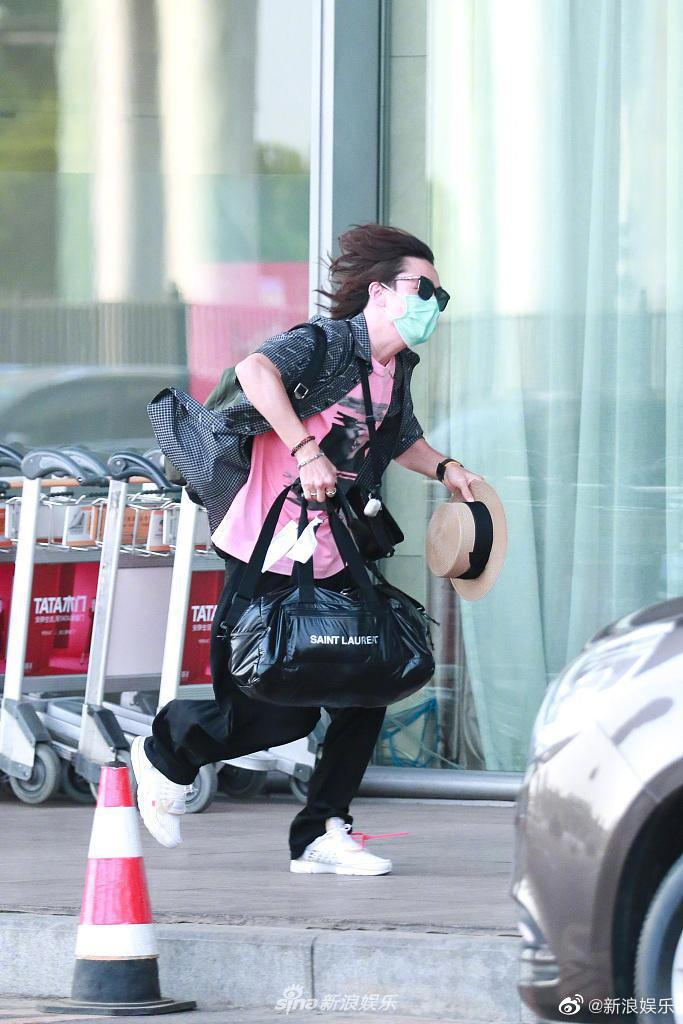OK: (392, 269, 443, 349)
